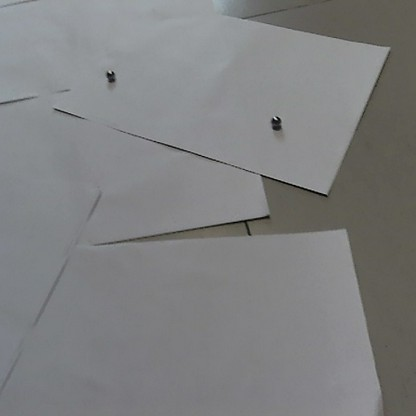ironball: (268, 112, 283, 132), (104, 67, 115, 82)
